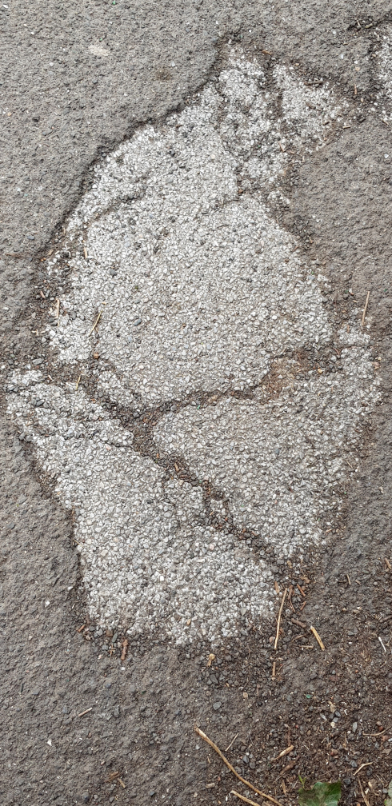pothole: (0, 28, 389, 656)
